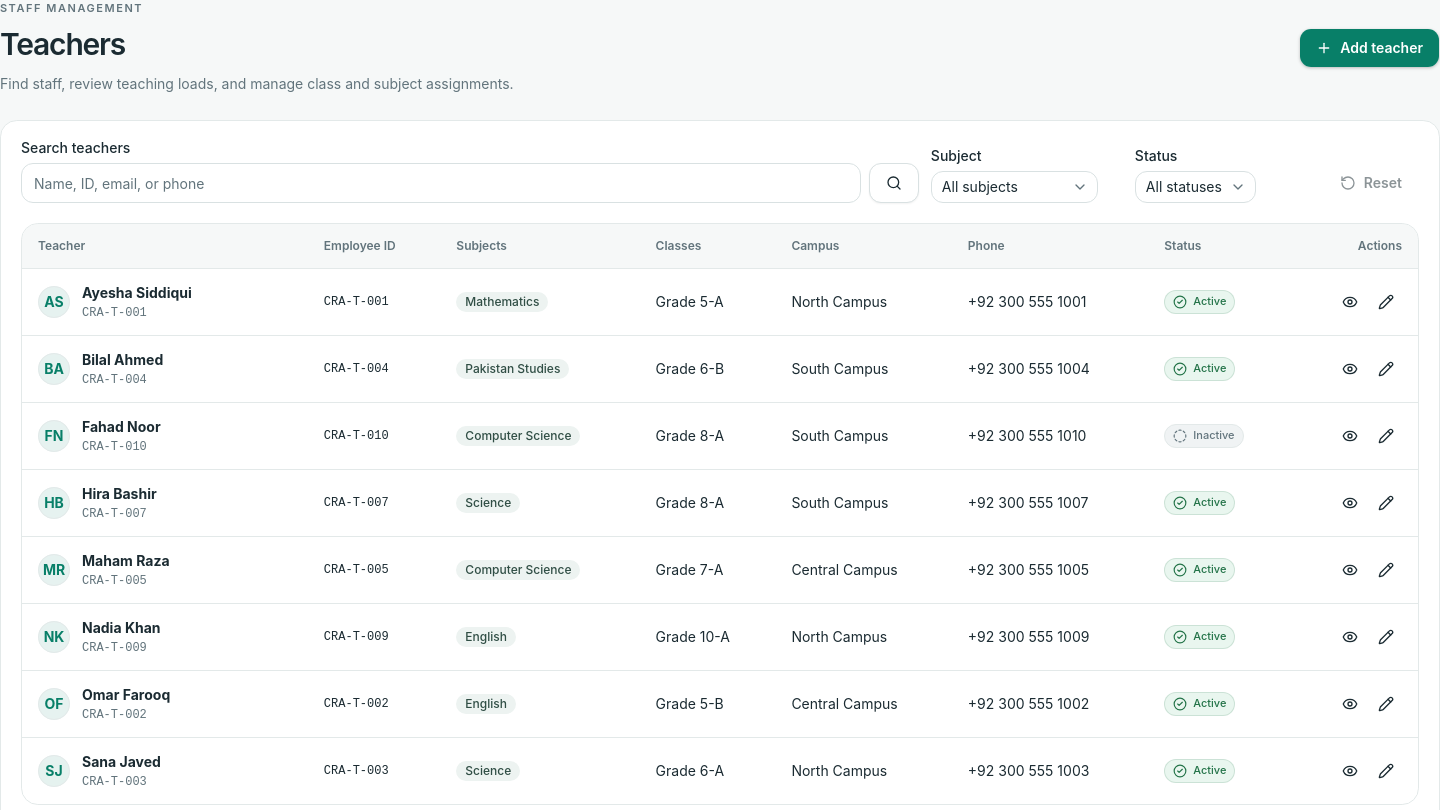
Test case: TeachersList › searches and filters teaching assignments
Expected: the text "Ayesha Siddiqui" is shown, [82,283,192,303]
Select "Science" in the dropdown labelled "Subject" at (1014, 188), box [931,172,1098,204]
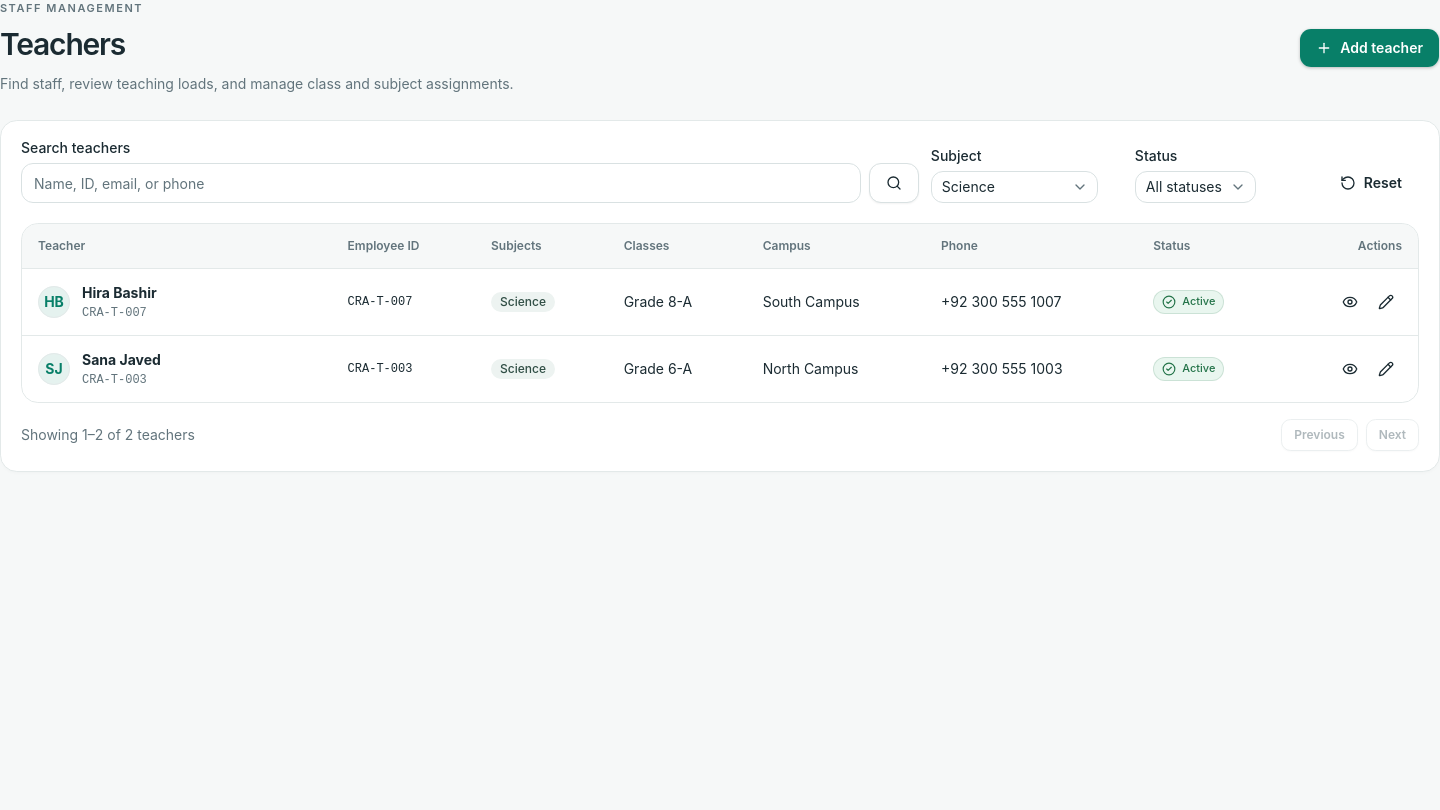
Expected: the text "Sana Javed" is shown, [82,350,161,370]
Type "nobody" into the field labelled "Search teachers" at (441, 184), box [21,164,861,204]
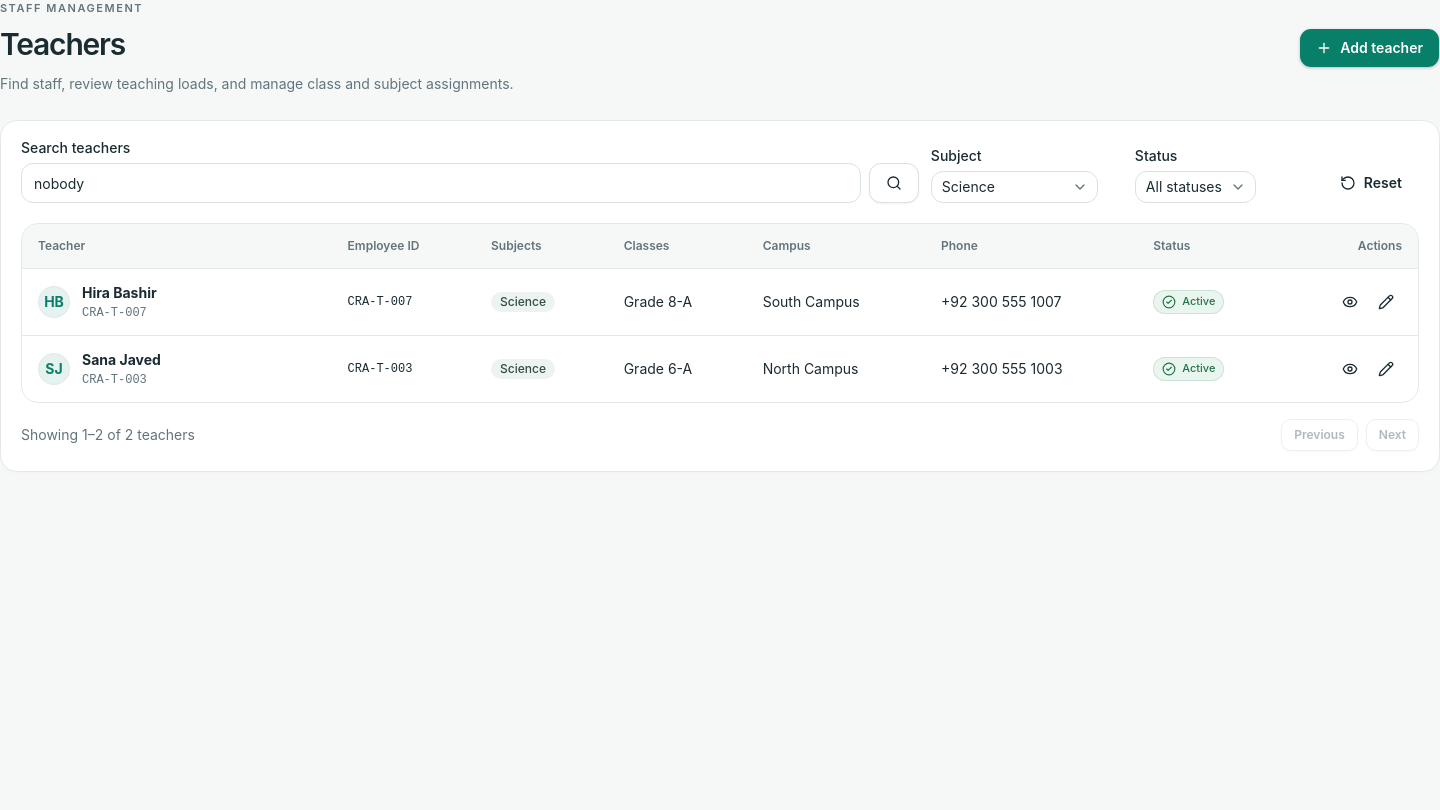
Click the button named "Search teachers" at (894, 184), box [869,164,919,204]
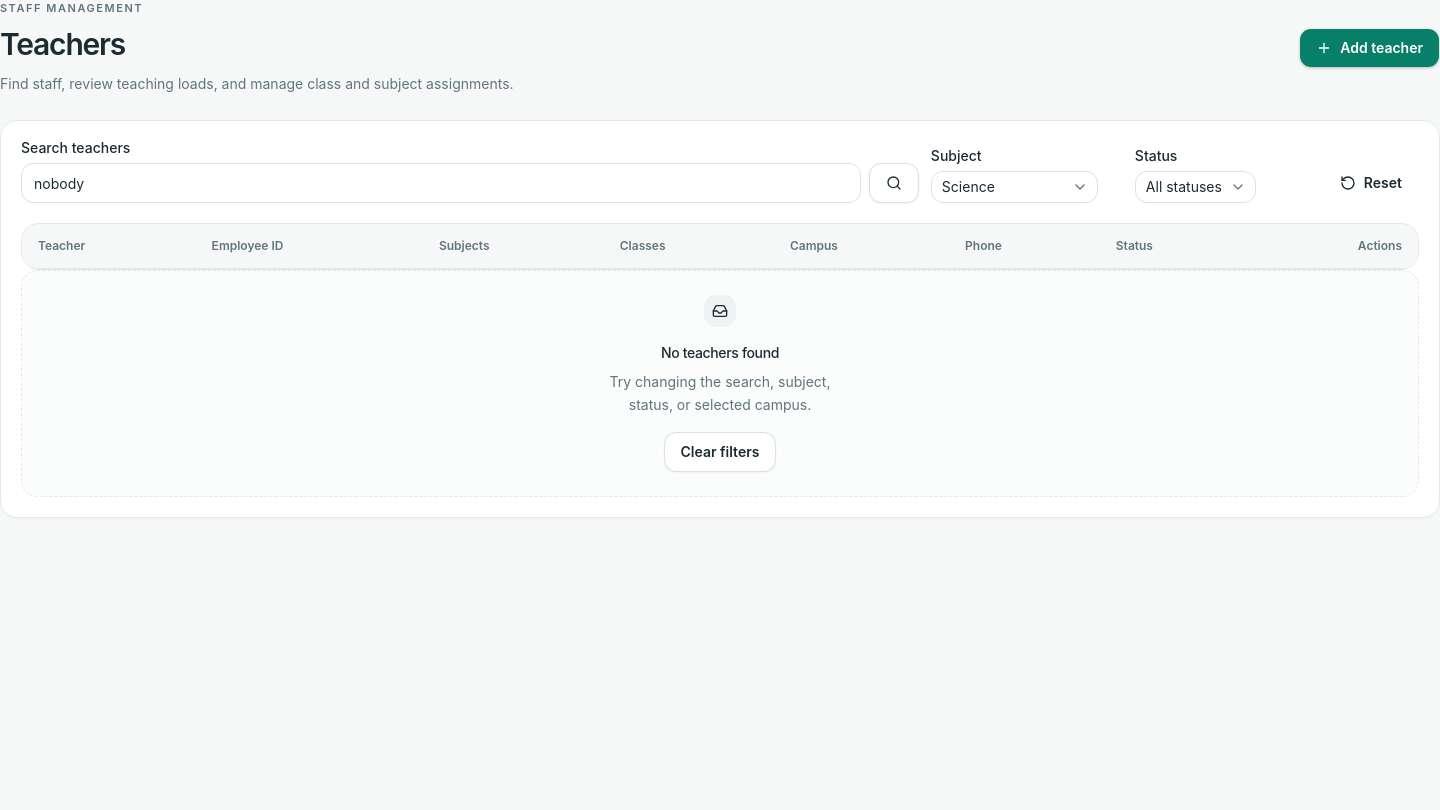
Result: the text "No teachers found" is shown at [661,343,779,363]
